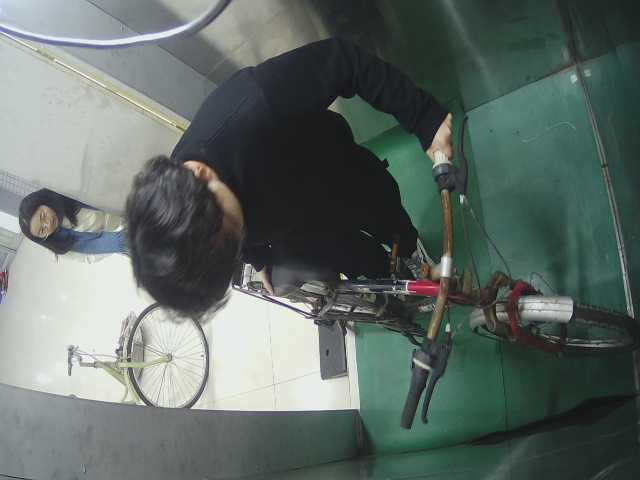bicycle: (248, 141, 637, 437), (58, 293, 211, 411)
person: (139, 41, 478, 303), (16, 183, 148, 261)
